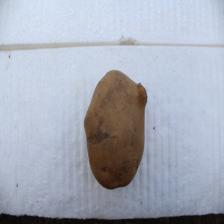Damaged potato: (82, 65, 150, 198)
